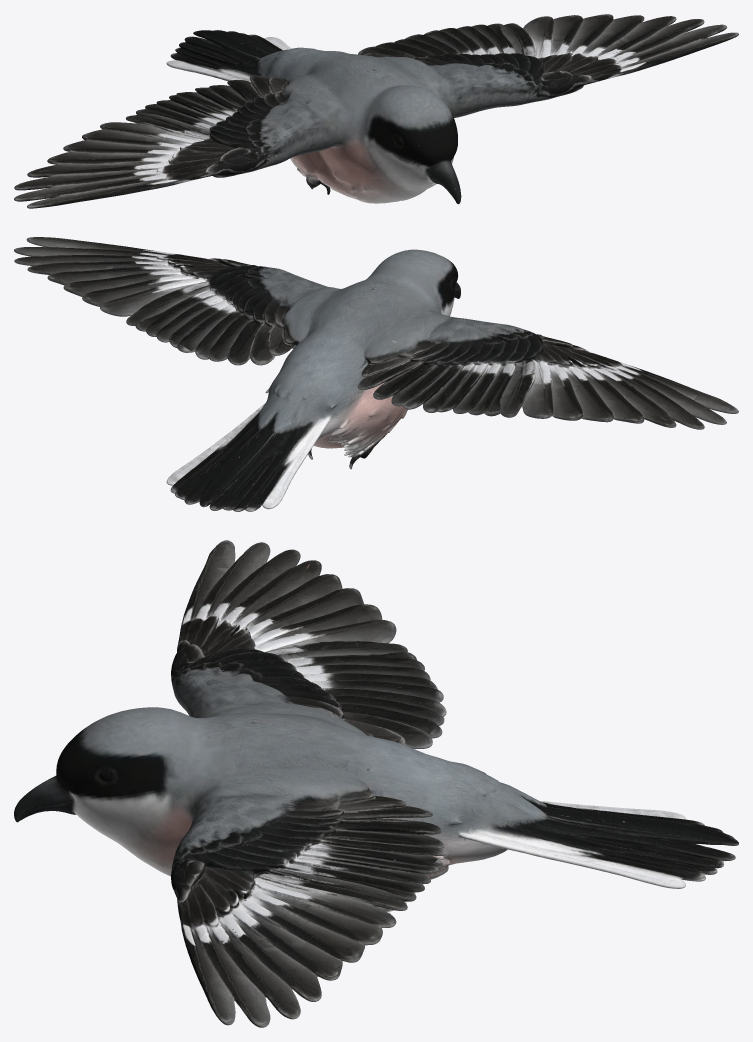
The model's file is Lanius_minor.glb.
The picture shows the model from 3 angles, top to bottom: view 1: azimuth 30°, elevation 25°; view 2: azimuth 150°, elevation 25°; view 3: azimuth 270°, elevation 25°; orthographic projection. The views are drawn at different scales.
Visible parts, largest first — view 1: orient; view 2: orient; view 3: orient.
Part boxes in pixels (left/top/right/bottom): orient: left=14, top=14, right=738, bottom=208; orient: left=14, top=237, right=738, bottom=511; orient: left=14, top=540, right=738, bottom=1027.
Bounding box in the file's own units: 0.5 × 0.1014 × 0.3168.
1 material, 1 textured.
